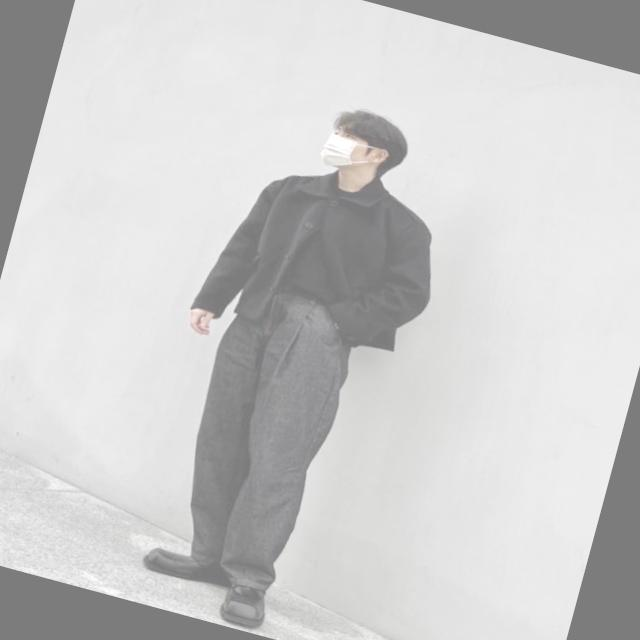denimpants: (160, 285, 366, 605)
jacket: (193, 147, 452, 367)
